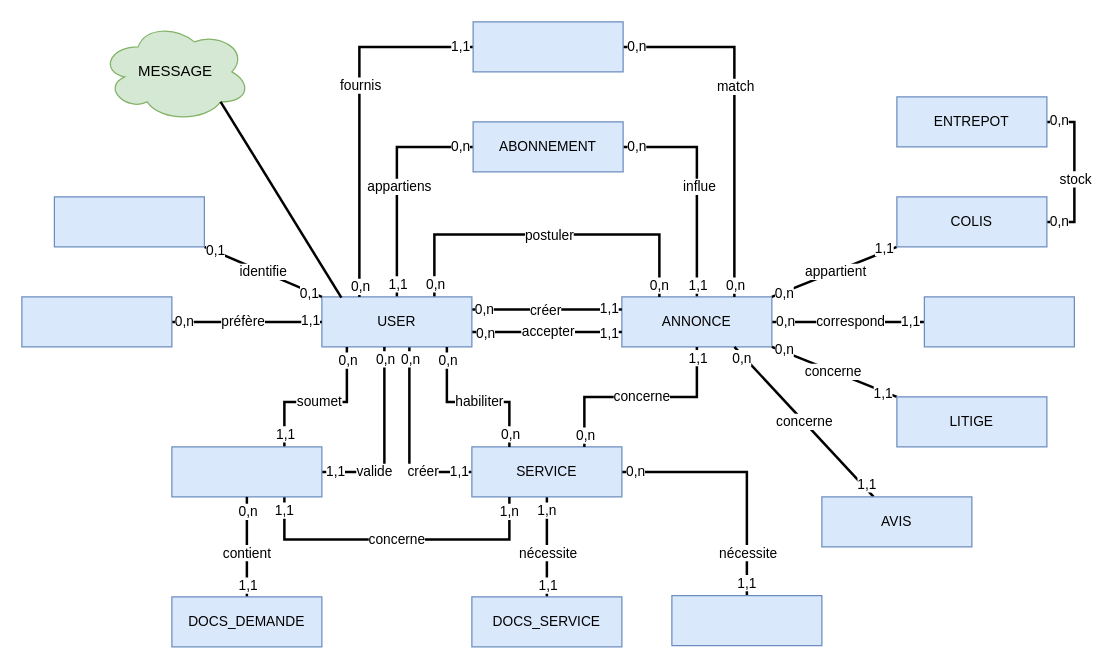
The diagram is 1113 pixels wide and 669 high, and some of its shapes have lost their labels. Here are the shapes that lost their labels. From the top down, the centre of each, then its label:
pixel 547 46: TRAJET
pixel 128 221: NFC
pixel 96 321: LANGUE
pixel 998 321: PAIEMENT
pixel 246 471: DEMANDE
pixel 746 620: MATERIEL
